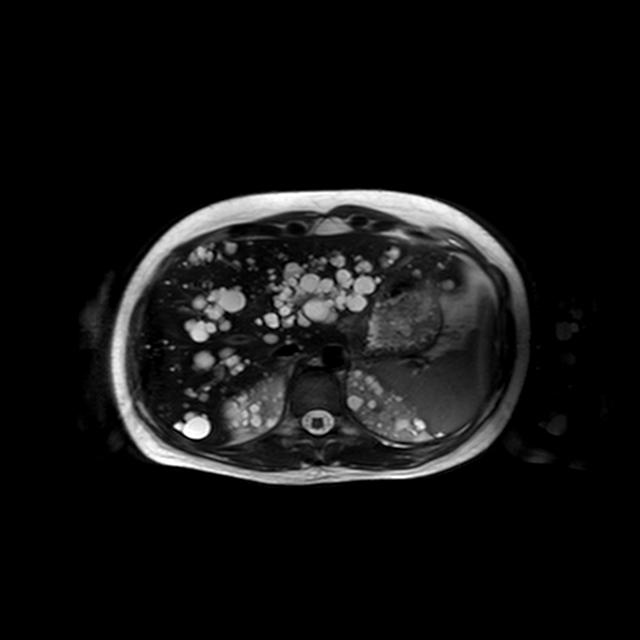sag: (222, 371, 286, 445)
sol: (346, 368, 438, 443)
